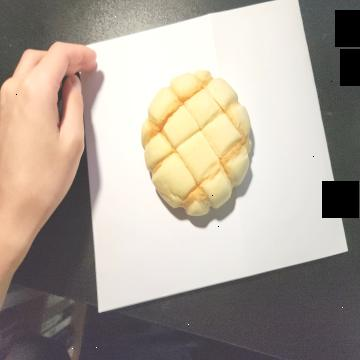melon_bread: (139, 69, 254, 217)
